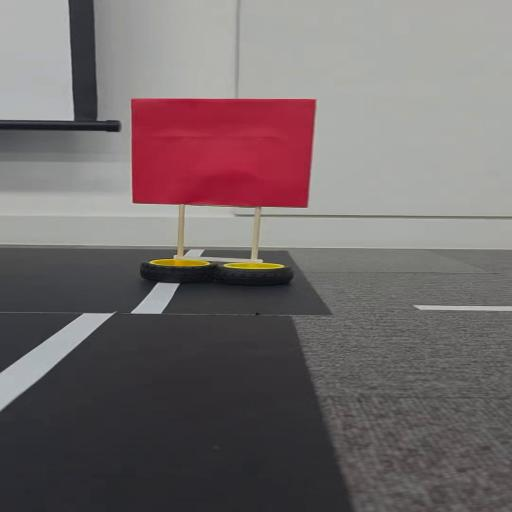Sign_A: (124, 95, 320, 299)
